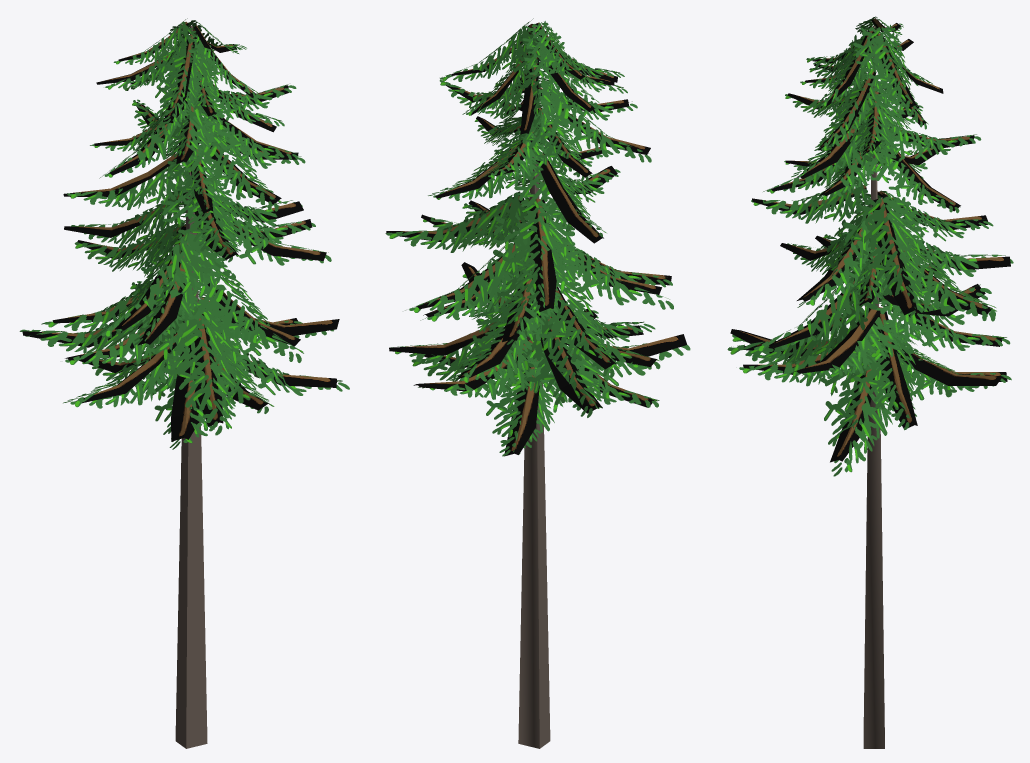
File: tallTree.fbx
3 renders of one model, left to right at view 1: azimuth 30°, elevation 25°; view 2: azimuth 150°, elevation 25°; view 3: azimuth 270°, elevation 25°, orthographic.
Visible parts, largest first — view 1: trunk, leaves.040, leaves.021, leaves.043, leaves.042, leaves.022, leaves.027, leaves.046, leaves.029, leaves.017, leaves.041, leaves.018 (+34 smaller); view 2: trunk, leaves.054, leaves.052, leaves.066, leaves.023, leaves.018, leaves.053, leaves.012, leaves.055, leaves.045, leaves.043, leaves.029 (+33 smaller); view 3: trunk, leaves.066, leaves.014, leaves.058, leaves.064, leaves.067, leaves.021, leaves.053, leaves.042, leaves.055, leaves.040, leaves.032 (+29 smaller).
Boxes of the visible parts, box(x1,y1,x2,y2) form: trunk: box(175, 26, 207, 748); leaves.040: box(147, 298, 242, 435); leaves.021: box(184, 251, 303, 362); leaves.043: box(93, 225, 218, 338); leaves.042: box(160, 179, 240, 262); leaves.022: box(134, 233, 223, 344); leaves.027: box(175, 120, 281, 211); leaves.046: box(154, 41, 213, 123); leaves.029: box(65, 164, 191, 210); leaves.017: box(63, 331, 180, 408); leaves.041: box(65, 304, 206, 366); leaves.018: box(74, 223, 199, 271); trunk: box(518, 27, 550, 748); leaves.054: box(492, 199, 574, 312); leaves.052: box(505, 301, 606, 417); leaves.066: box(385, 191, 528, 252); leaves.023: box(533, 271, 619, 377); leaves.018: box(491, 236, 579, 344); leaves.053: box(449, 293, 541, 382); leaves.012: box(483, 369, 567, 456); leaves.055: box(405, 235, 530, 312); leaves.045: box(534, 88, 651, 162); leaves.043: box(548, 224, 673, 309); leaves.029: box(514, 164, 606, 237); trunk: box(863, 26, 884, 748); leaves.066: box(843, 197, 925, 315); leaves.014: box(821, 346, 912, 476); leaves.058: box(853, 24, 921, 119); leaves.064: box(841, 319, 916, 430); leaves.067: box(797, 205, 907, 307); leaves.021: box(754, 266, 888, 351); leaves.053: box(875, 298, 1010, 351); leaves.042: box(751, 174, 870, 223); leaves.055: box(881, 228, 996, 321); leaves.040: box(727, 294, 867, 364); leaves.032: box(814, 73, 888, 150).
Bounding box in the file's own units: 1404 × 3544 × 1297.
